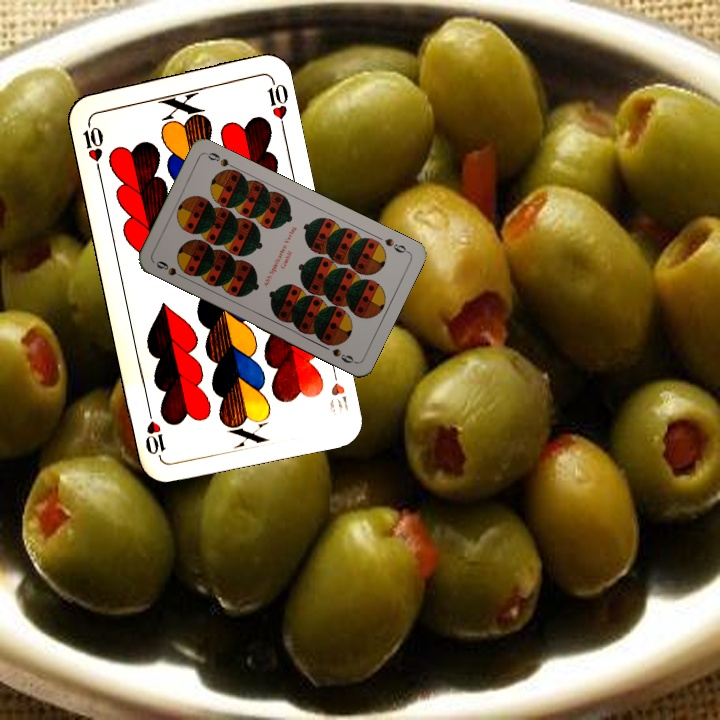H10: (78, 115, 106, 174), (326, 361, 351, 413)
S9: (152, 257, 189, 281), (381, 234, 411, 256)
